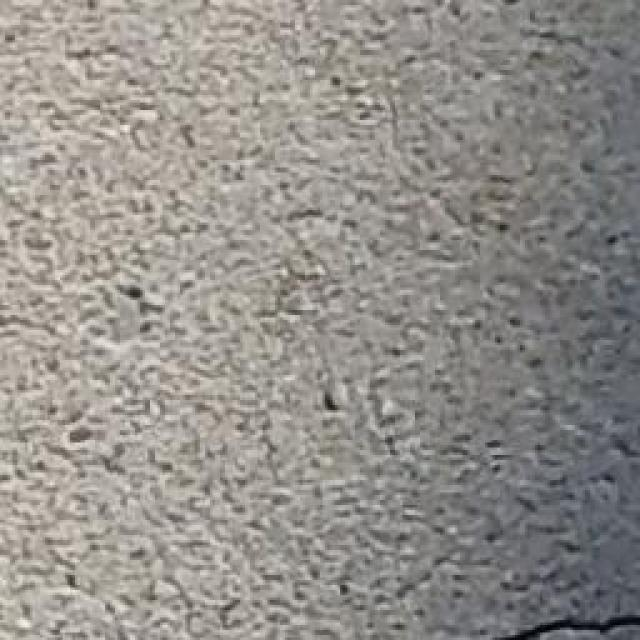concrete-crack: (487, 613, 640, 640)
